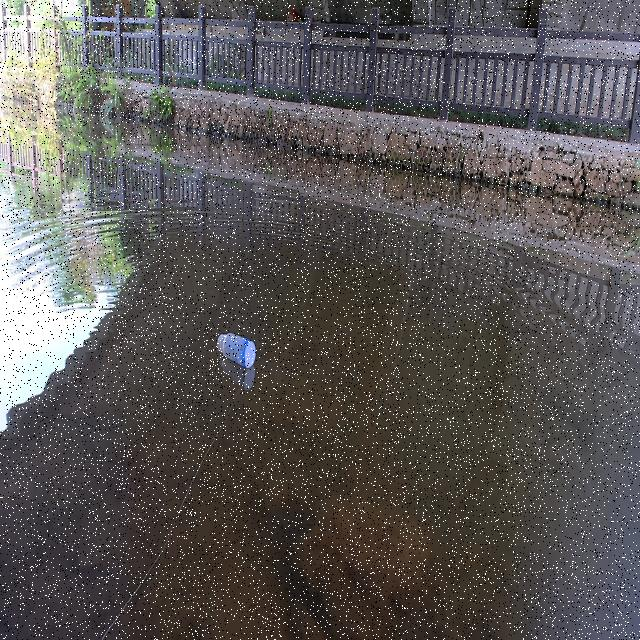Bottle: (215, 327, 258, 369)
